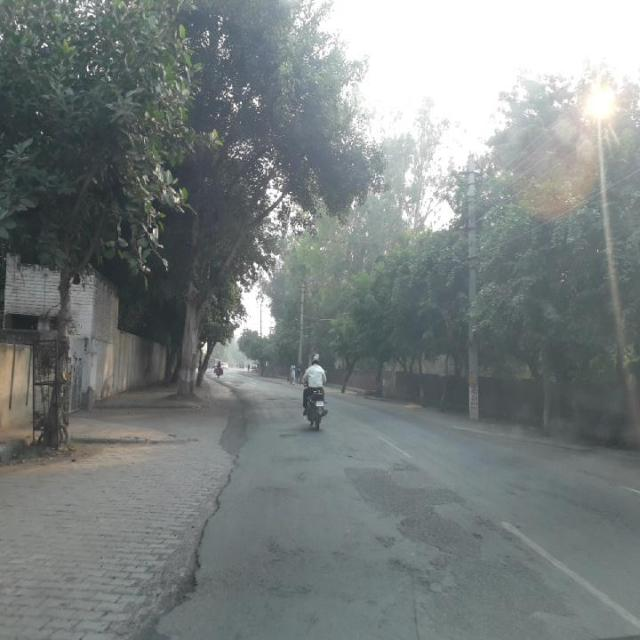D00: (148, 554, 207, 636), (187, 471, 233, 551)
